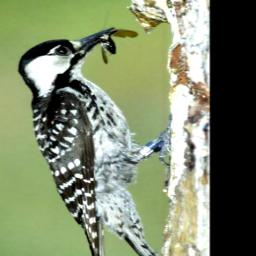Woodpecker: (17, 27, 163, 256)
